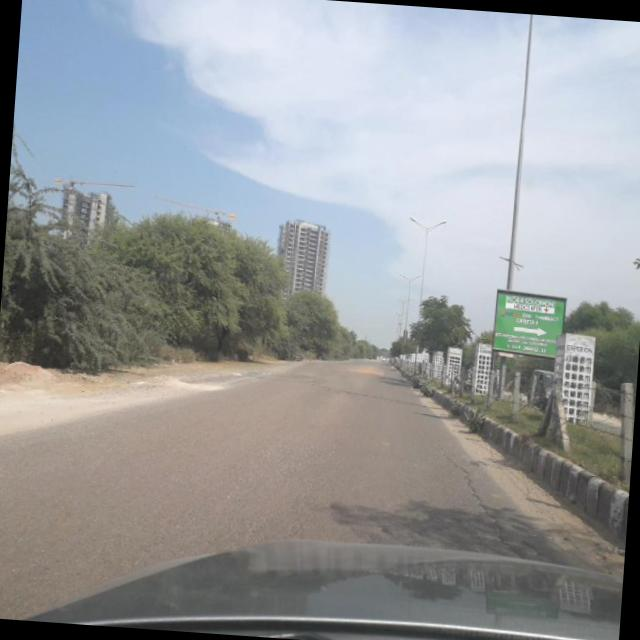crack: (65, 382, 351, 556)
pothole: (421, 426, 525, 556)
